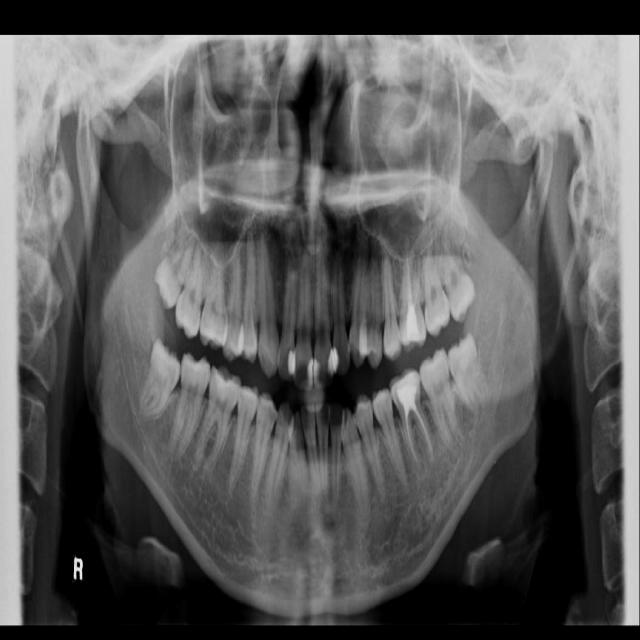Filling: (399, 294, 427, 352), (389, 368, 421, 418)
Root Canal Treatment: (404, 416, 417, 464), (420, 416, 434, 459), (404, 247, 409, 296)
impacted tooth: (437, 220, 476, 322), (154, 219, 198, 308), (137, 339, 181, 423), (448, 333, 490, 414)
